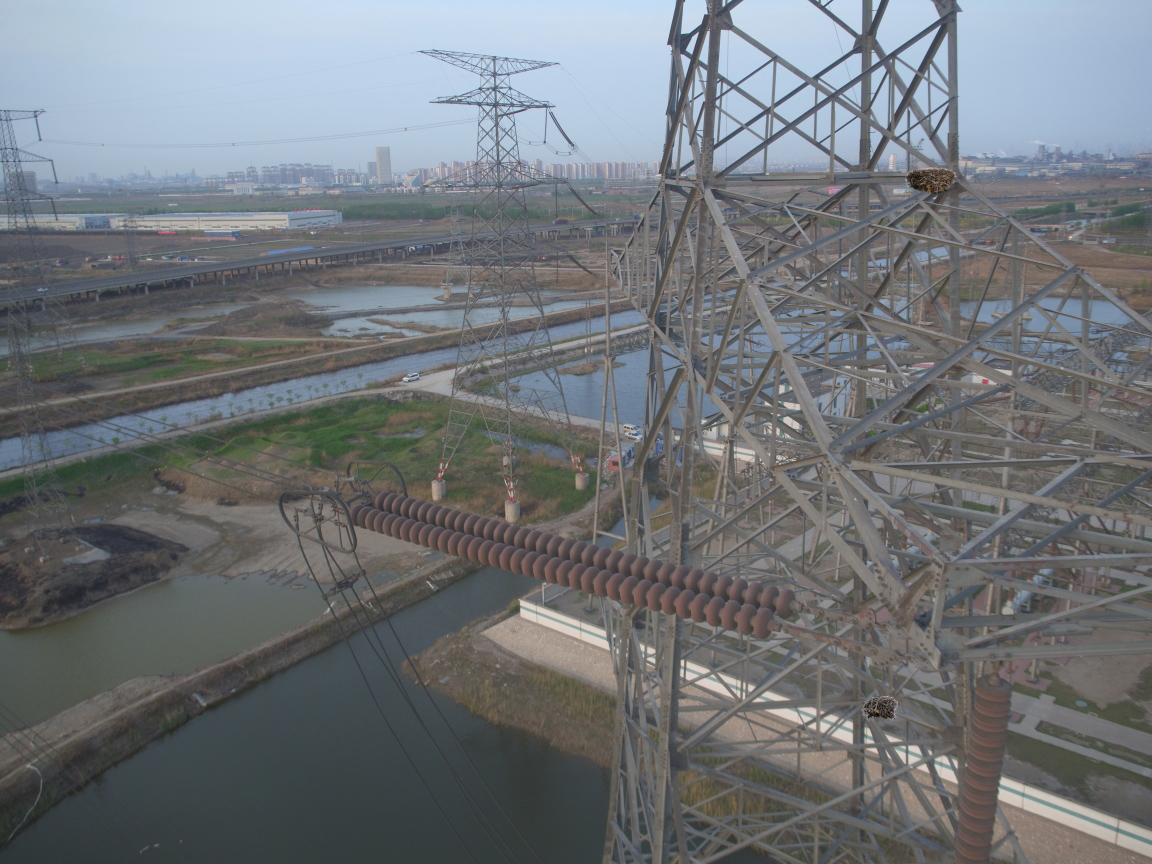nest: (900, 166, 955, 193), (861, 692, 900, 725)
